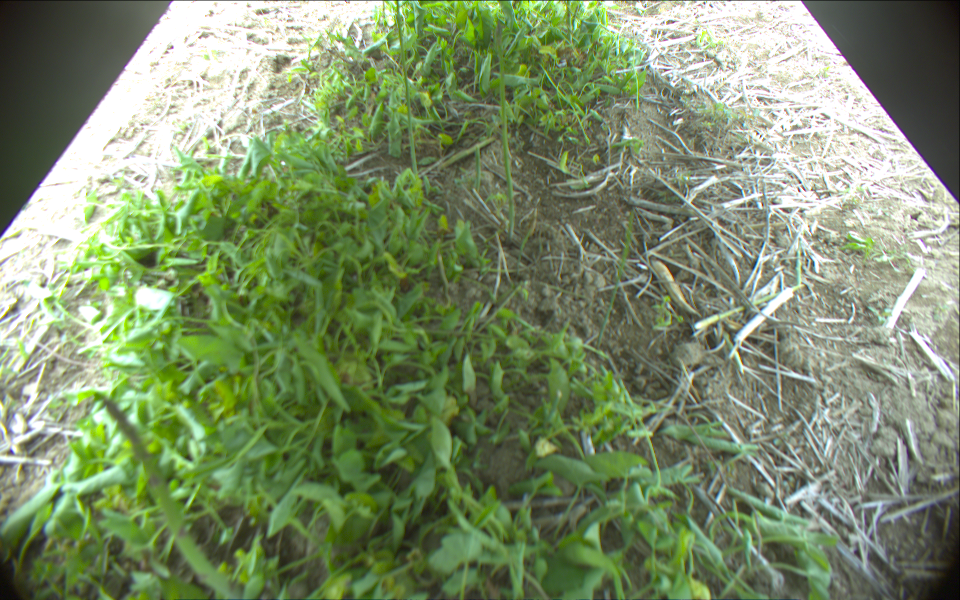aspa: (96, 397, 242, 600), (493, 23, 517, 237), (394, 1, 419, 178), (473, 143, 483, 194)
